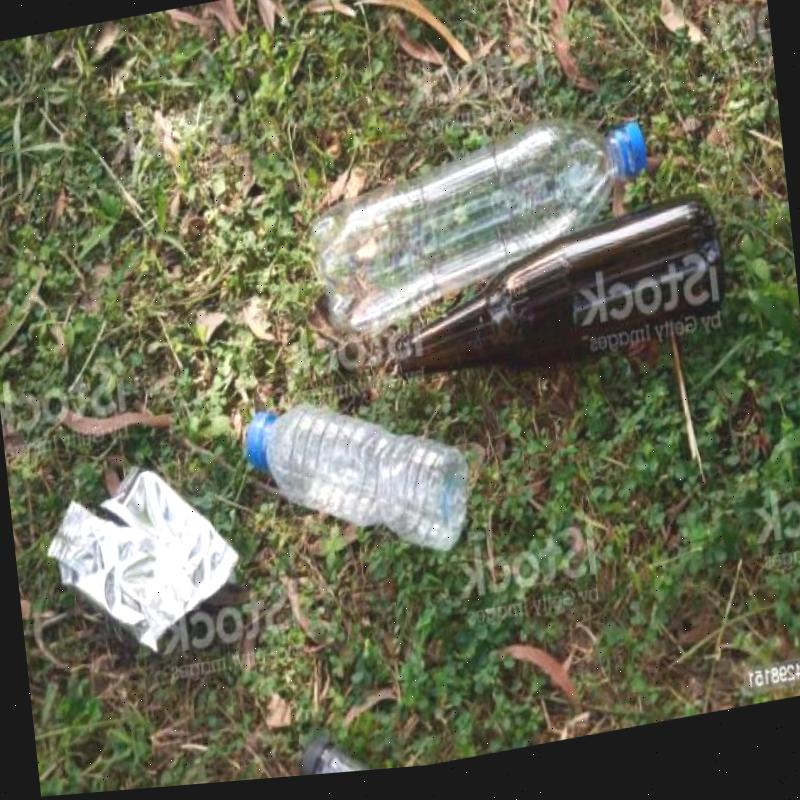botella: (297, 86, 656, 347), (238, 377, 480, 595)
